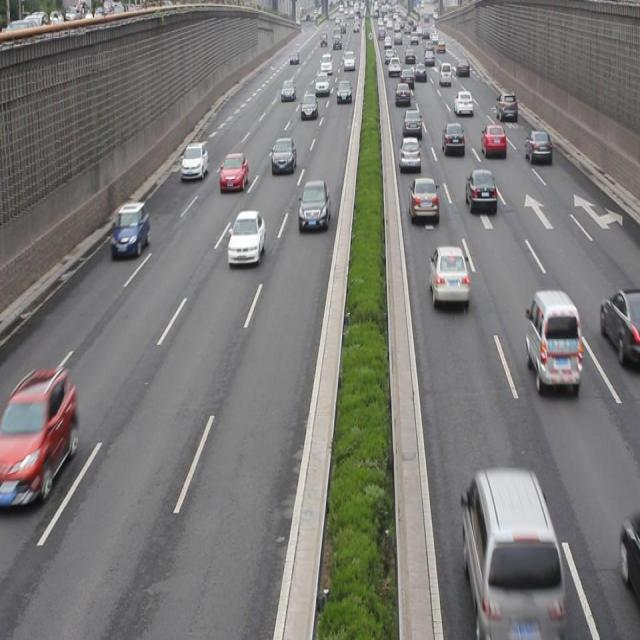car: (1, 366, 76, 506), (598, 287, 640, 368), (428, 244, 469, 306), (111, 200, 150, 257), (228, 208, 265, 266), (298, 180, 330, 230), (464, 166, 497, 212), (409, 176, 438, 223), (220, 151, 248, 193), (270, 135, 297, 176), (180, 140, 208, 179), (480, 122, 505, 160), (524, 127, 550, 163), (398, 134, 421, 172), (442, 120, 465, 157), (402, 108, 422, 139)
truck: (461, 469, 564, 627), (524, 286, 580, 387)
